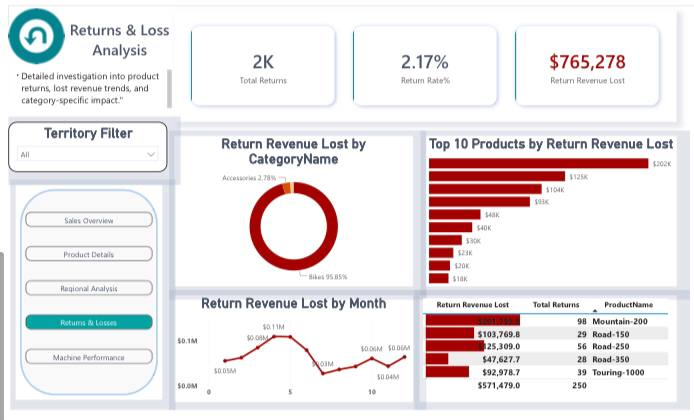

This screenshot's page, from the dashboard's own definition file:
{"tool":"powerbi","page":{"name":"Returns & Losses","canvas":[1280,720],"ordinal":3},"visuals":[{"type":"cardVisual","fields":{"Data":["_Measures.Total Returns","_Measures.Return Rate%","_Measures.Return Revenue Lost"]},"box":[296.2,7.1,894.3,199.8],"z":0},{"type":"textbox","box":[0,109.2,295.6,90.7],"z":1000},{"type":"textbox","box":[100.6,0,195.6,146],"z":2000},{"type":"clusteredBarChart","title":"Top 10 Products by Return Revenue Lost","fields":{"Category":["Dim_Products.ProductName"],"Y":["_Measures.Return Revenue Lost"]},"box":[744.1,232.4,446.5,267.9],"z":3000},{"type":"pieChart","fields":{"Category":["Dim_Categories.CategoryName"],"Y":["_Measures.Return Revenue Lost"]},"box":[296.2,232.4,425.2,267.9],"z":4000},{"type":"slicer","title":"Territory Filter","fields":{"Values":["Dim_Territories.Region"]},"box":[0,206.9,283.5,89.3],"z":5000},{"type":"areaChart","fields":{"Y":["_Measures.Return Revenue Lost"],"Category":["Dim_Calendar.Month"]},"box":[296.2,515.9,425.2,189.9],"z":6000},{"type":"shape","title":"Navigation","box":[12.8,318.9,260.8,382.7],"z":7000,"group":"g1"},{"type":"tableEx","fields":{"Values":["_Measures.Return Revenue Lost","_Measures.Total Returns","Dim_Products.ProductName"]},"box":[732.8,515.9,457.8,189.9],"z":7000},{"type":"group","id":"g1","title":"Group 1","box":[12.8,318.9,260.8,382.7],"z":8000},{"type":"pageNavigator","box":[22.7,360,240.9,286.3],"z":8000,"group":"g1"},{"type":"image","box":[0,0,100,107.1],"z":8001}]}

Visuals, with their boxes on the page's 1280x720 design canvas (x1, y1, x2, y2). These are canvas units, not pixel positions in the 694x420 screenshot, which may show the page scaled, cropped or inside an application window:
cardVisual - _Measures.Total Returns x _Measures.Return Rate%: (296, 7, 1190, 207)
textbox: (0, 109, 296, 200)
textbox: (101, 0, 296, 146)
"Top 10 Products by Return Revenue Lost" clusteredBarChart: (744, 232, 1191, 500)
pieChart - Dim_Categories.CategoryName x _Measures.Return Revenue Lost: (296, 232, 721, 500)
"Territory Filter" slicer: (0, 207, 284, 296)
areaChart - _Measures.Return Revenue Lost x Dim_Calendar.Month: (296, 516, 721, 706)
"Navigation" shape: (13, 319, 274, 702)
tableEx - _Measures.Return Revenue Lost x _Measures.Total Returns: (733, 516, 1191, 706)
"Group 1" group: (13, 319, 274, 702)
pageNavigator: (23, 360, 264, 646)
image: (0, 0, 100, 107)
